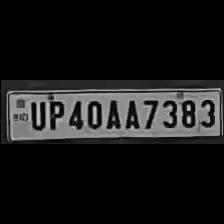0: (83, 97, 103, 129)
3: (158, 96, 178, 130), (196, 96, 216, 128)
4: (64, 97, 84, 129)
7: (137, 96, 157, 130)
8: (178, 96, 196, 128)
A: (104, 96, 122, 130), (122, 96, 139, 130)
P: (44, 97, 64, 130)
U: (26, 97, 44, 130)
